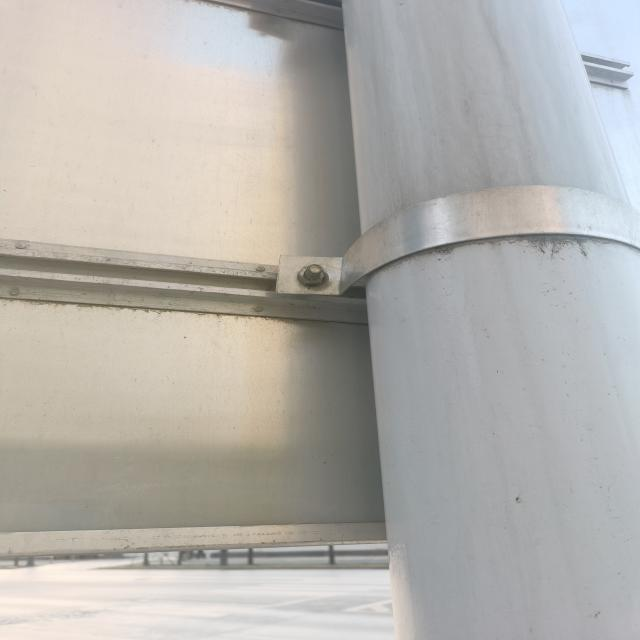bolt nut: (295, 264, 326, 287)
